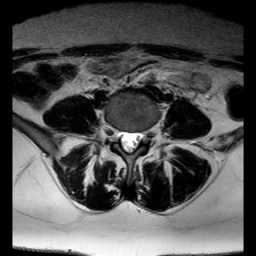CCS_normal: (125, 122, 132, 161)
LFS_normal: (140, 120, 148, 150)
LLS_normal: (132, 121, 140, 154)
RFS_normal: (109, 115, 118, 152)
RLS_normal: (118, 121, 125, 154)
